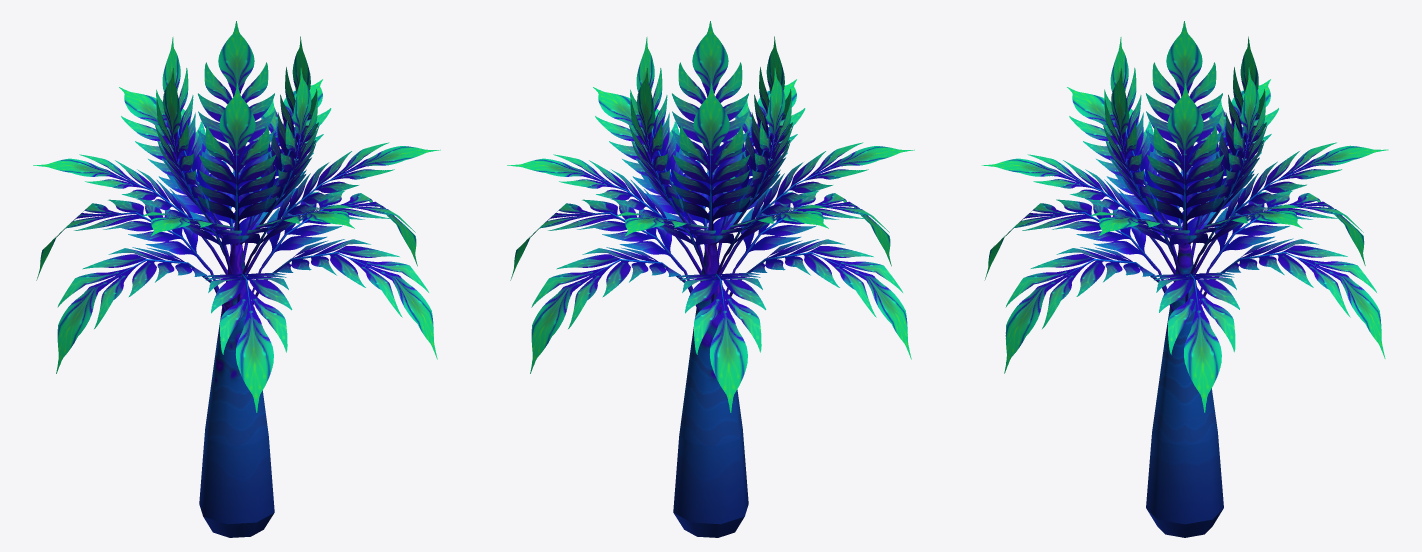
Rendered from Blue_Tree_07a.FBX.
The picture shows the model from 3 angles, left to right: view 1: azimuth 30°, elevation 25°; view 2: azimuth 150°, elevation 25°; view 3: azimuth 270°, elevation 25°; orthographic projection.
Parts seen in each view (by area): view 1: Blue_Tree_07a; view 2: Blue_Tree_07a; view 3: Blue_Tree_07a.
Boxes of the visible parts, <box> form: Blue_Tree_07a: <box>33,21,440,537</box>; Blue_Tree_07a: <box>507,21,914,537</box>; Blue_Tree_07a: <box>981,21,1388,537</box>.
Bounding box in the file's own units: 429 × 509 × 422.
